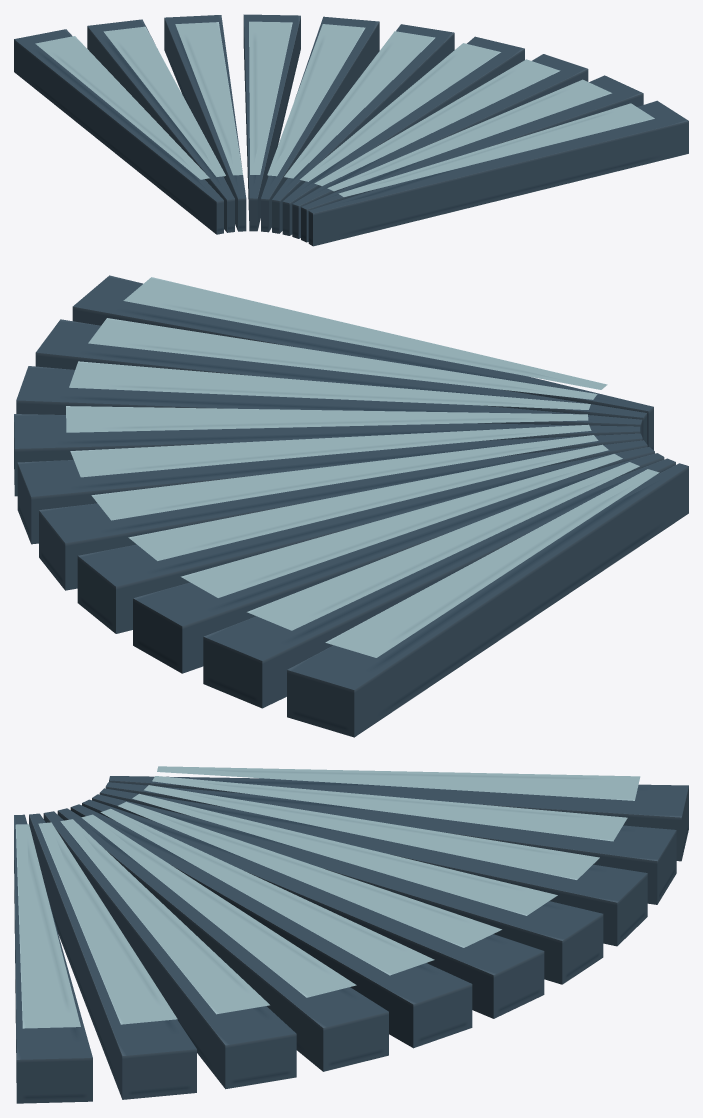
Rendered from sc_tread_curve_left_6.obj.
The picture shows the model from 3 angles, top to bottom: view 1: azimuth 30°, elevation 25°; view 2: azimuth 150°, elevation 25°; view 3: azimuth 270°, elevation 25°; orthographic projection. The views are drawn at different scales.
Size of the model in its own units: 17.4 by 1.56 by 17.47.
1 material, 1 textured.
